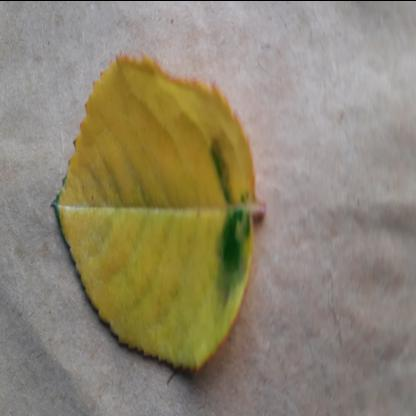black-spot: (56, 63, 258, 359)
